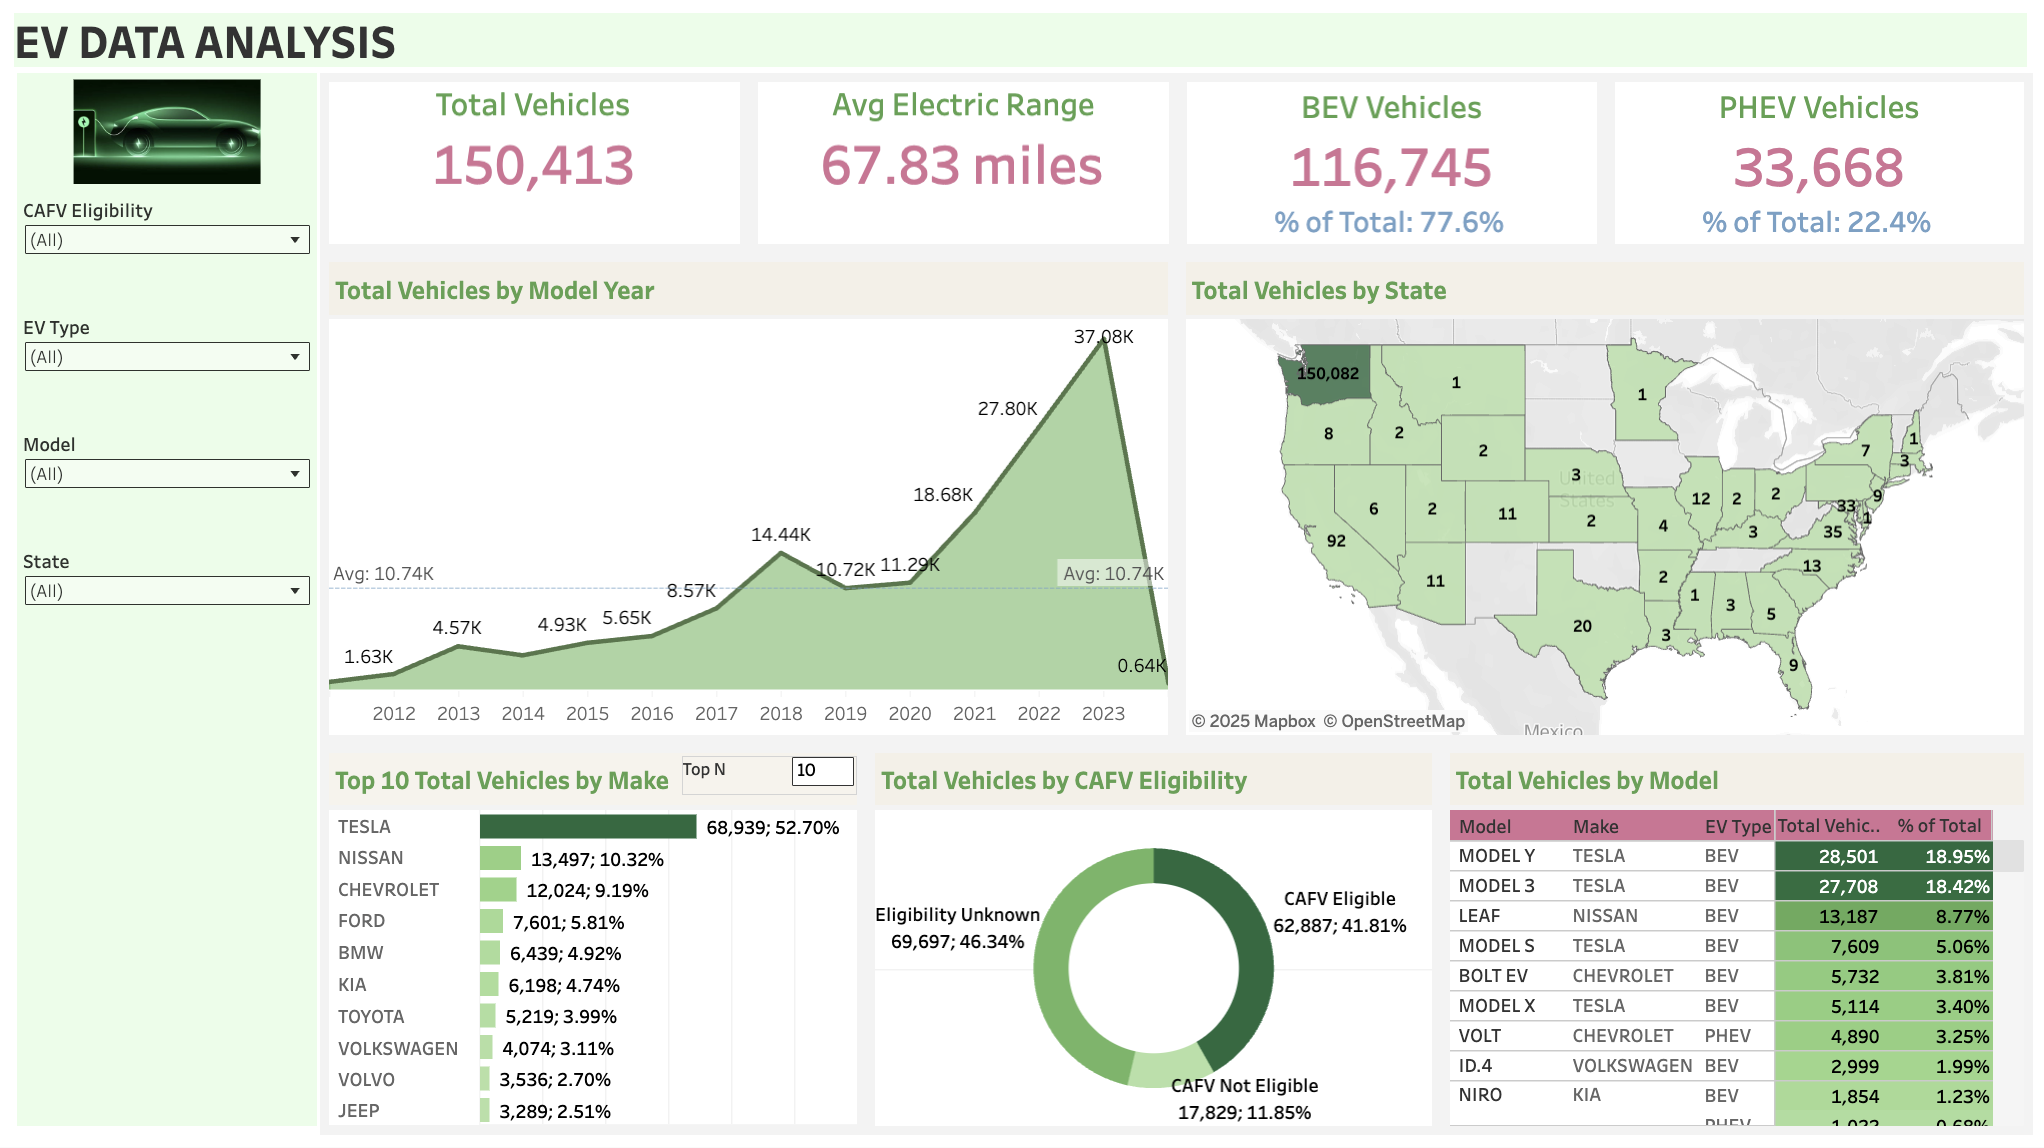

The page's visual inventory and layout, read from the dashboard file:
{"tool":"tableau","page":{"name":"EV DATA ANALYSIS","canvas":[1366,768],"ordinal":0},"visuals":[{"type":"title","box":[8,8,1350,43.6]},{"type":"image","param":"/Users/shubhamk/Documents/GitHub/EV_DataAnalysis/ev.jpg","box":[14,52,200,78]},{"type":"worksheet","title":"Total Vehicles","mark":"Automatic","box":[216,52,286,120]},{"type":"worksheet","title":"Avg Electric Range","mark":"Automatic","box":[502,52,286,120]},{"type":"worksheet","title":"BEV Vehicles","mark":"Automatic","box":[788,52,285,120]},{"type":"worksheet","title":"PHEV Vehicles","mark":"Automatic","box":[1073,52,285,120]},{"type":"filter","title":"Total Vehicles by Model Year","param":"[federated.1nb37g11j1ogxk1aznsy218b0u4t].[none:Clean Alternative Fuel Vehicle (C","box":[14,130,200,78]},{"type":"worksheet","title":"Total Vehicles by Model Year","mark":"Area","rows":["Calculation_3343781988470976512","Calculation_3343781988470976512"],"cols":["Model Year"],"box":[216,172,571,327]},{"type":"worksheet","title":"Total Vehicles by State","mark":"Multipolygon","box":[787,172,571,327]},{"type":"filter","title":"Total Vehicles by Model Year","param":"[federated.1nb37g11j1ogxk1aznsy218b0u4t].[none:Electric Vehicle Type:nk]","box":[14,208,200,78]},{"type":"filter","title":"Total Vehicles by Model Year","param":"[federated.1nb37g11j1ogxk1aznsy218b0u4t].[none:Model:nk]","box":[14,286,200,78]},{"type":"filter","title":"Total Vehicles by Model Year","param":"[federated.1nb37g11j1ogxk1aznsy218b0u4t].[none:State:nk]","box":[14,364,200,78]},{"type":"blank","box":[14,442,200,78]},{"type":"worksheet","title":"Top 10 Total Vehicles by Make","mark":"Automatic","rows":["Make"],"cols":["Calculation_3343781988470976512"],"box":[215.5,499.4,364,260.6]},{"type":"worksheet","title":"Total Vehicles by CAFV Eligibility","mark":"Pie","rows":["Calculation_57632007513718785","Calculation_57632007513718785"],"box":[579.5,499.4,383.5,260.6]},{"type":"worksheet","title":"Total Vehicles by Model","mark":"Square","rows":["Model","Make","Electric Vehicle Type"],"box":[963,499.4,395,260.6]},{"type":"parameter","param":"[Parameters].[Parameter 1]","box":[457,507,117,26]},{"type":"blank","box":[14,520,200,78]},{"type":"blank","box":[14,598,200,78]},{"type":"blank","box":[14,676,200,78]}]}

Visuals, with their boxes in screenshot pixels (x1, y1, x2, y2), scaled from the page's 1366x768 canvas onto the 2044x1148 screenshot:
title: 12,12,2032,77
image: 21,78,320,194
"Total Vehicles" worksheet: 323,78,751,257
"Avg Electric Range" worksheet: 751,78,1179,257
"BEV Vehicles" worksheet: 1179,78,1606,257
"PHEV Vehicles" worksheet: 1606,78,2032,257
"Total Vehicles by Model Year" filter: 21,194,320,311
"Total Vehicles by Model Year" worksheet (Area marks): 323,257,1178,746
"Total Vehicles by State" worksheet (Multipolygon marks): 1178,257,2032,746
"Total Vehicles by Model Year" filter: 21,311,320,428
"Total Vehicles by Model Year" filter: 21,428,320,544
"Total Vehicles by Model Year" filter: 21,544,320,661
blank: 21,661,320,777
"Top 10 Total Vehicles by Make" worksheet: 322,746,867,1136
"Total Vehicles by CAFV Eligibility" worksheet (Pie marks): 867,746,1441,1136
"Total Vehicles by Model" worksheet (Square marks): 1441,746,2032,1136
parameter: 684,758,859,797
blank: 21,777,320,894
blank: 21,894,320,1010
blank: 21,1010,320,1127
